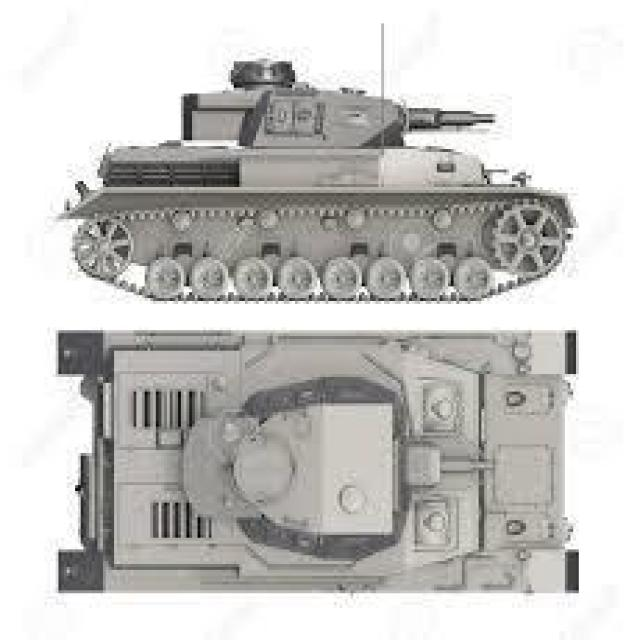Tanks: (39, 313, 618, 616), (21, 23, 611, 316)
